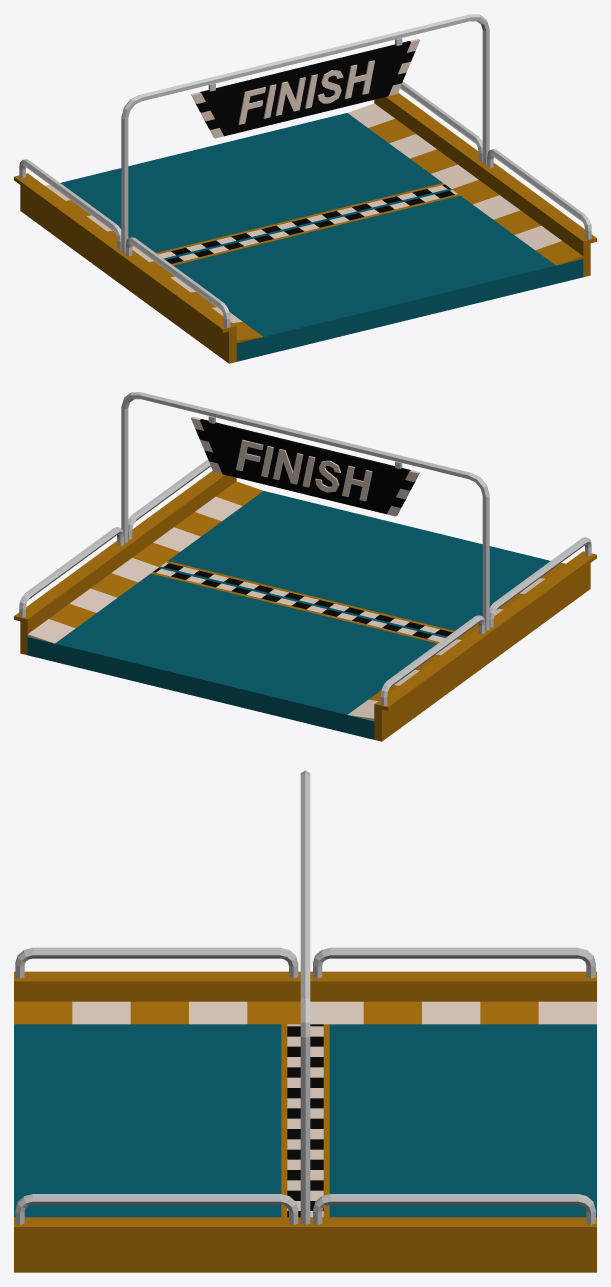
Rendered from finish.FBX.
The picture shows the model from 3 angles, top to bottom: view 1: azimuth 30°, elevation 25°; view 2: azimuth 150°, elevation 25°; view 3: azimuth 270°, elevation 25°; orthographic projection. The views are drawn at different scales.
Visible parts, largest first — view 1: finish_01, wall_r, sign, wall_l, curbs_l, signMount, curbs_r, finishLine; view 2: finish_01, wall_r, sign, wall_l, curbs_l, signMount, curbs_r, finishLine; view 3: finish_01, wall_l, wall_r, curbs_r, signMount.
Part boxes in pixels (box(x1,y1,x2,y2)): finish_01: box(60, 113, 583, 361); wall_r: box(14, 159, 236, 363); sign: box(191, 38, 419, 138); wall_l: box(374, 81, 596, 277); curbs_l: box(347, 103, 583, 265); signMount: box(121, 14, 489, 252); curbs_r: box(45, 185, 262, 343); finishLine: box(164, 188, 452, 259); finish_01: box(27, 491, 550, 739); wall_r: box(374, 537, 596, 741); sign: box(191, 416, 419, 516); wall_l: box(14, 459, 236, 655); curbs_l: box(27, 481, 263, 643); signMount: box(121, 392, 489, 630); curbs_r: box(348, 563, 565, 721); finishLine: box(158, 566, 446, 637); finish_01: box(14, 1024, 596, 1217); wall_l: box(14, 1194, 596, 1272); wall_r: box(14, 947, 596, 1001); curbs_r: box(14, 1001, 596, 1024); signMount: box(300, 770, 310, 1224).
Size of what is drawn, in the model's own units: 207 by 99.83 by 200.
